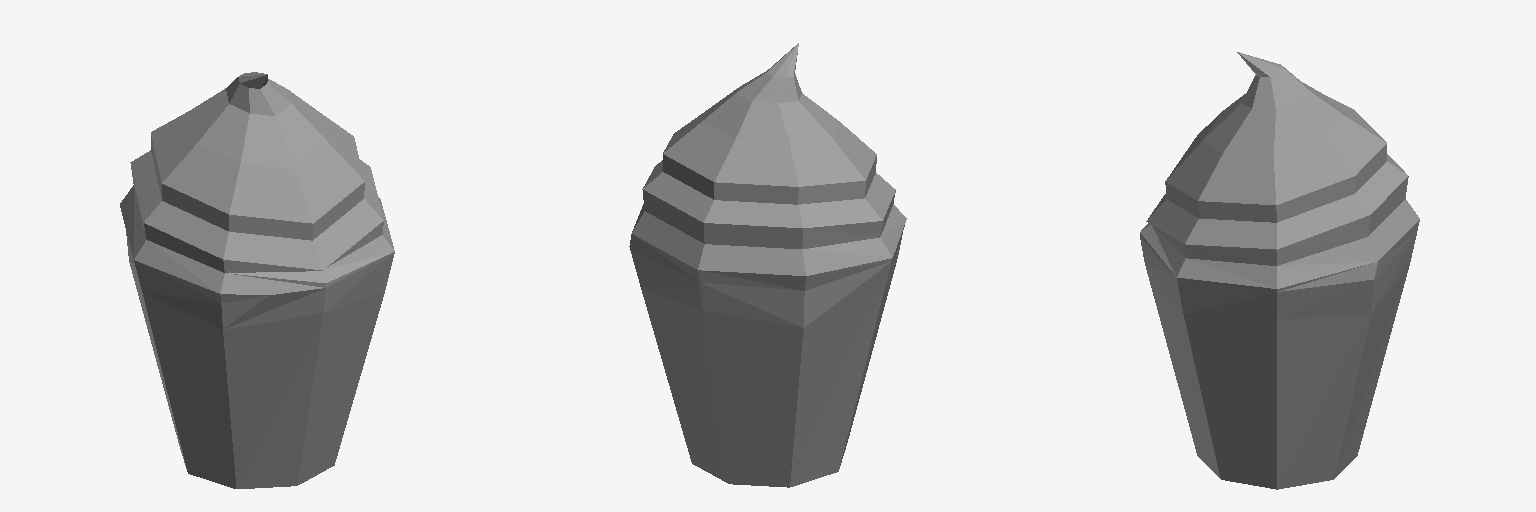
Rendered from Cupcake.obj.
3 renders of one model, left to right at view 1: azimuth 30°, elevation 25°; view 2: azimuth 150°, elevation 25°; view 3: azimuth 270°, elevation 25°, orthographic.
Visible parts, largest first — view 1: Cupcake_Cylinder.006; view 2: Cupcake_Cylinder.006; view 3: Cupcake_Cylinder.006.
Part boxes in pixels (bbox=[...]): Cupcake_Cylinder.006: bbox=[120, 72, 394, 488]; Cupcake_Cylinder.006: bbox=[629, 43, 906, 487]; Cupcake_Cylinder.006: bbox=[1140, 52, 1419, 489].
Bounding box in the file's own units: 0.6356 × 0.9829 × 0.6243.